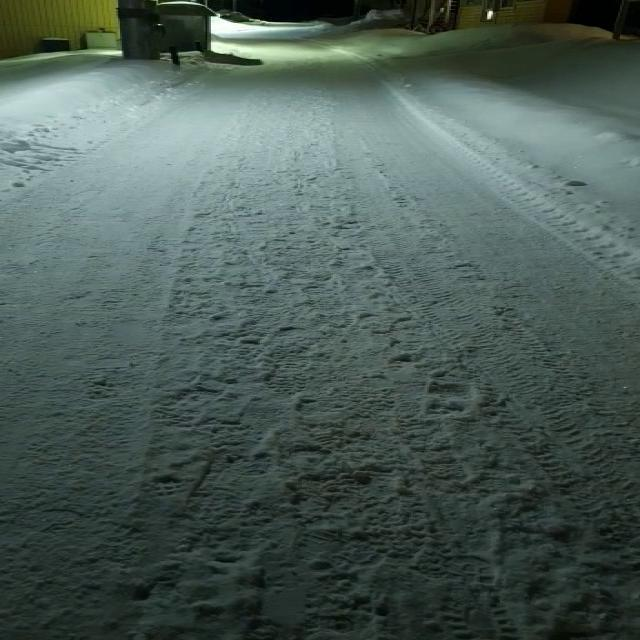path: (0, 18, 640, 640)
